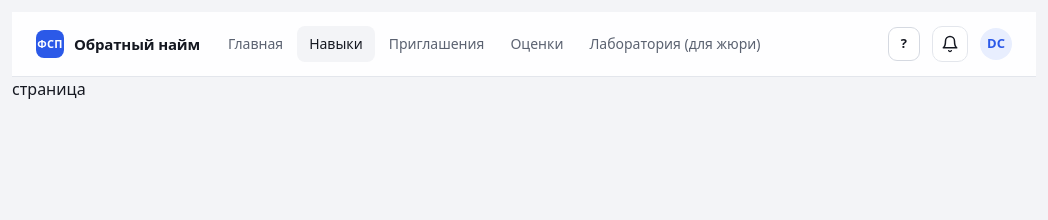
Test: Layout › the profile menu closes on Escape
This screenshot has width=1048, height=220.
Click the button with aria-label "Меню профиля" at (996, 44), box [980,28,1012,60]
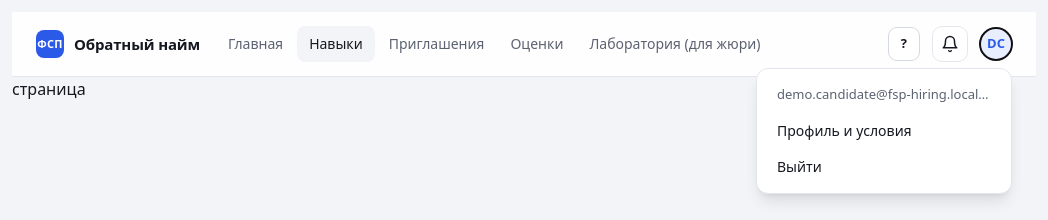
Check: the button "Выйти" is shown, box [765,148,1003,184]
Press Escape
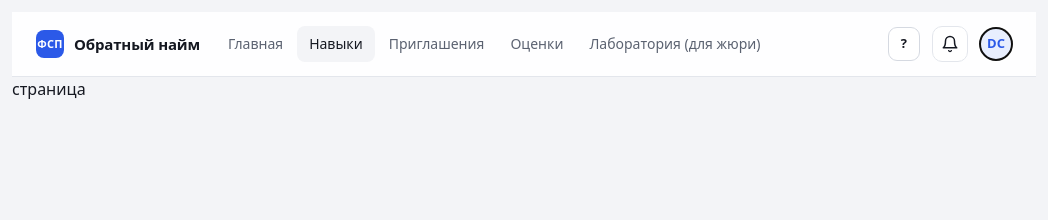
Check: the button "Выйти" is gone
